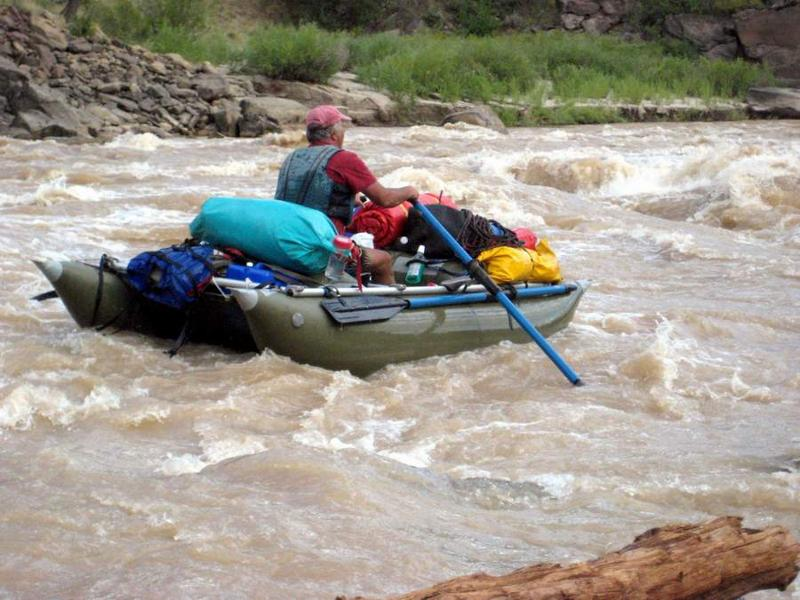person: (270, 103, 421, 231)
